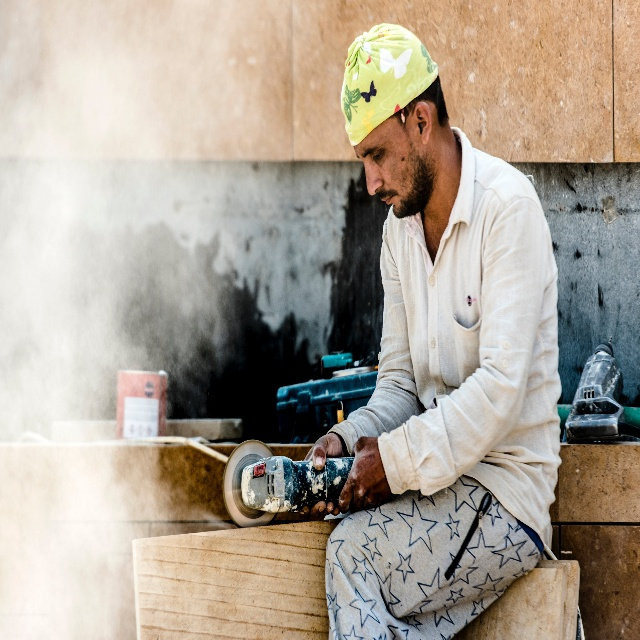Sin_guantes: (338, 435, 390, 514), (299, 431, 345, 517)
